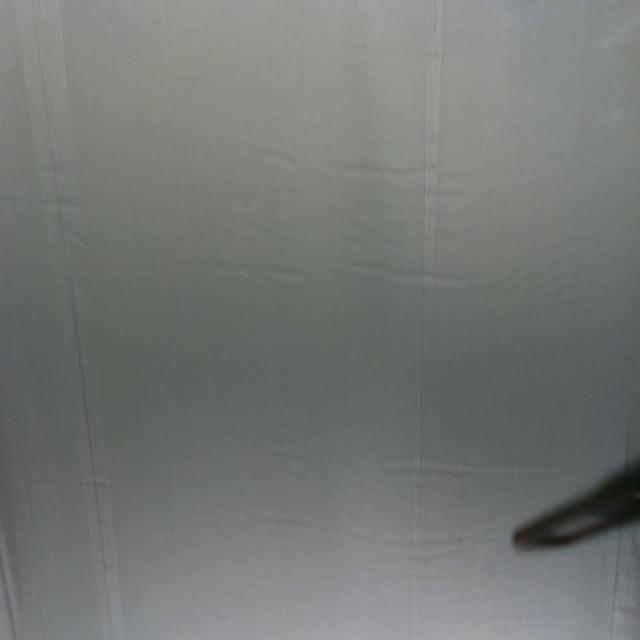crease: (30, 2, 120, 638), (412, 1, 443, 637), (608, 528, 624, 639)
